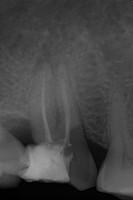Furcation Involvement: (32, 44, 68, 74)
